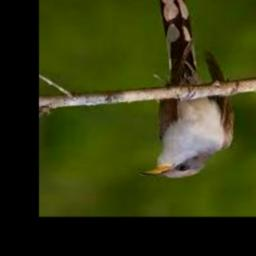Cuckoo: (137, 0, 233, 178)
